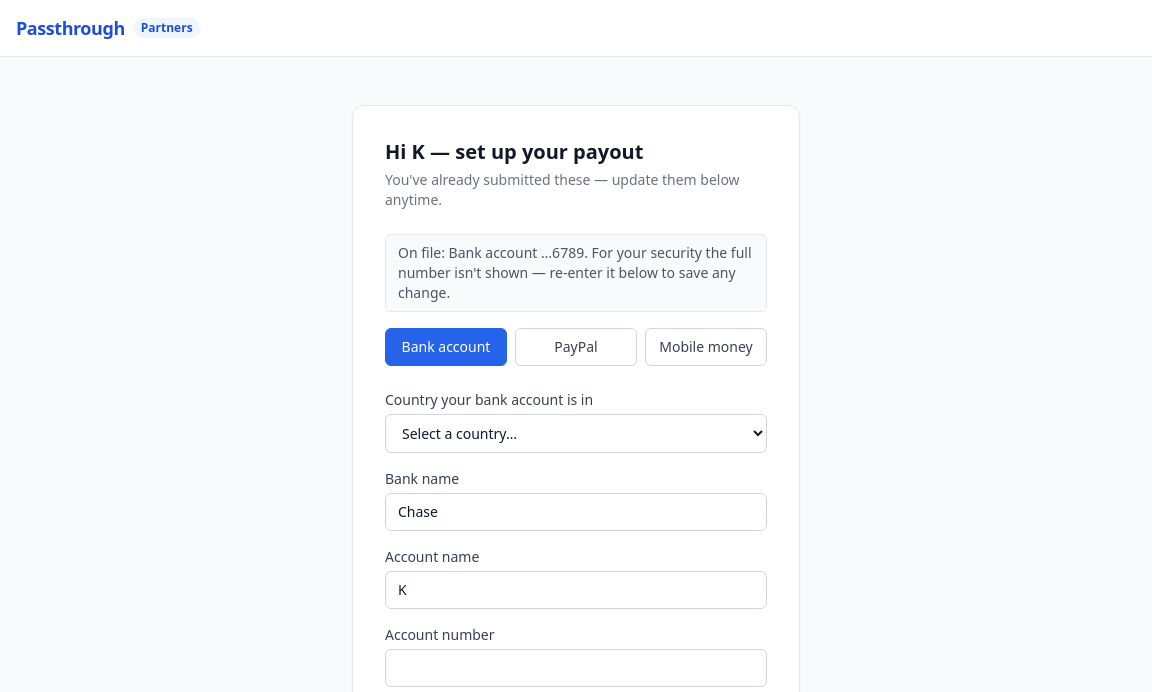
payout page: tax details (gap 7) › refuses a one-letter country before posting
This screenshot has width=1152, height=692.
Step 1. Select "United States" in the dropdown labelled "Country your bank account is in" → (576,434), box [385,414,767,453]
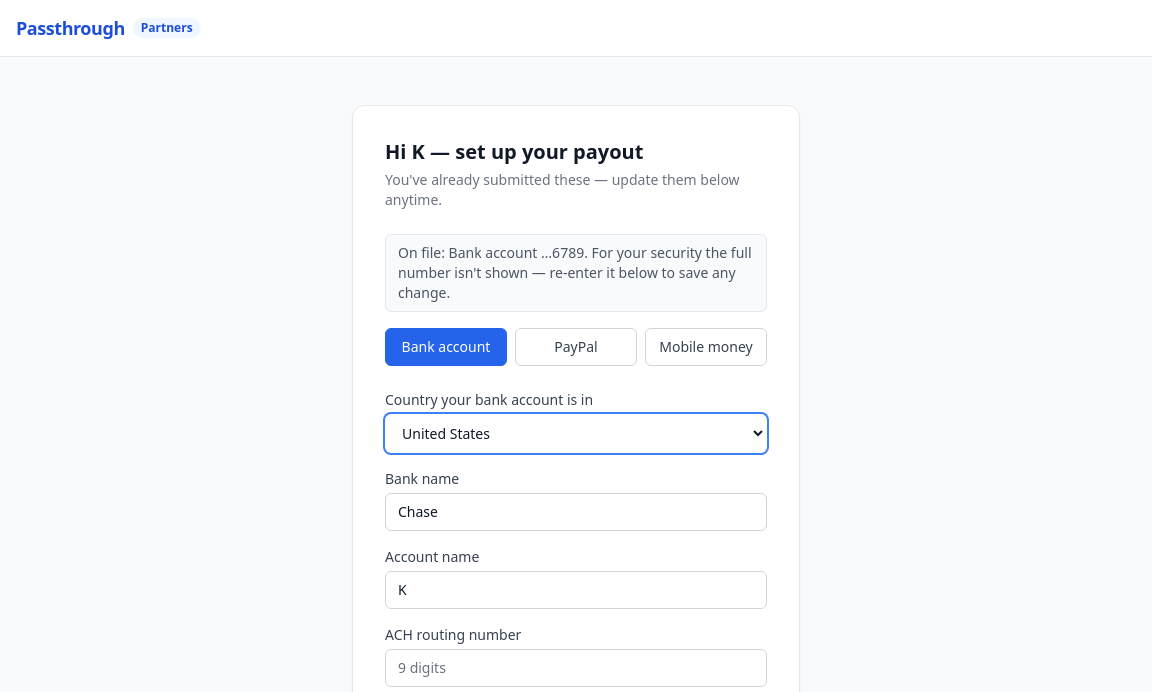
Step 2. Type "021000021" into the field labelled "ACH routing number" → (576,668), box [385,649,767,687]
(page scrolled)
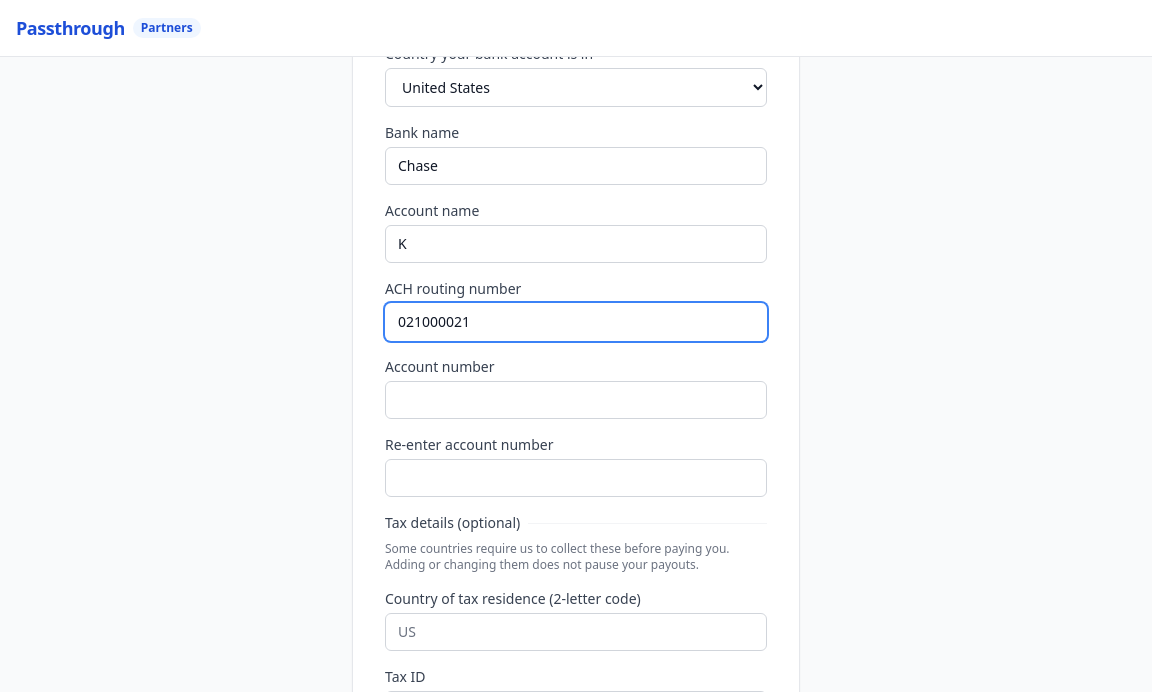
Step 3. Type "0123456789" into the field labelled "Account number" → (576,400), box [385,381,767,419]
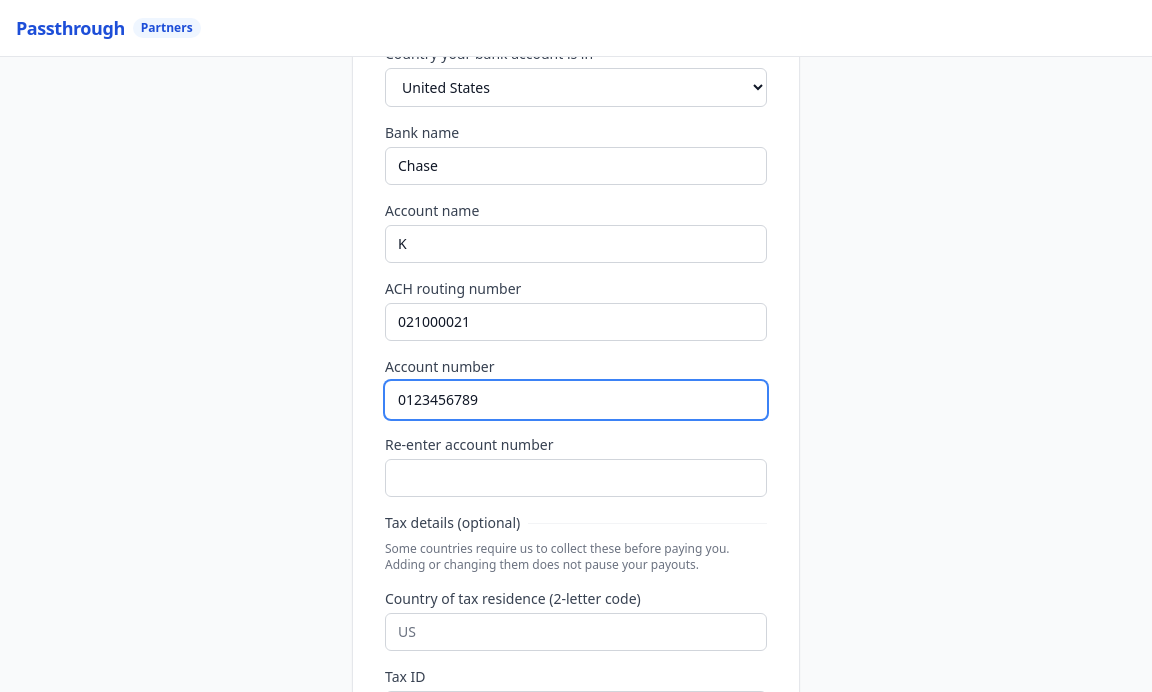
Step 4. Type "0123456789" into the field labelled "Re-enter account number" → (576,478), box [385,459,767,497]
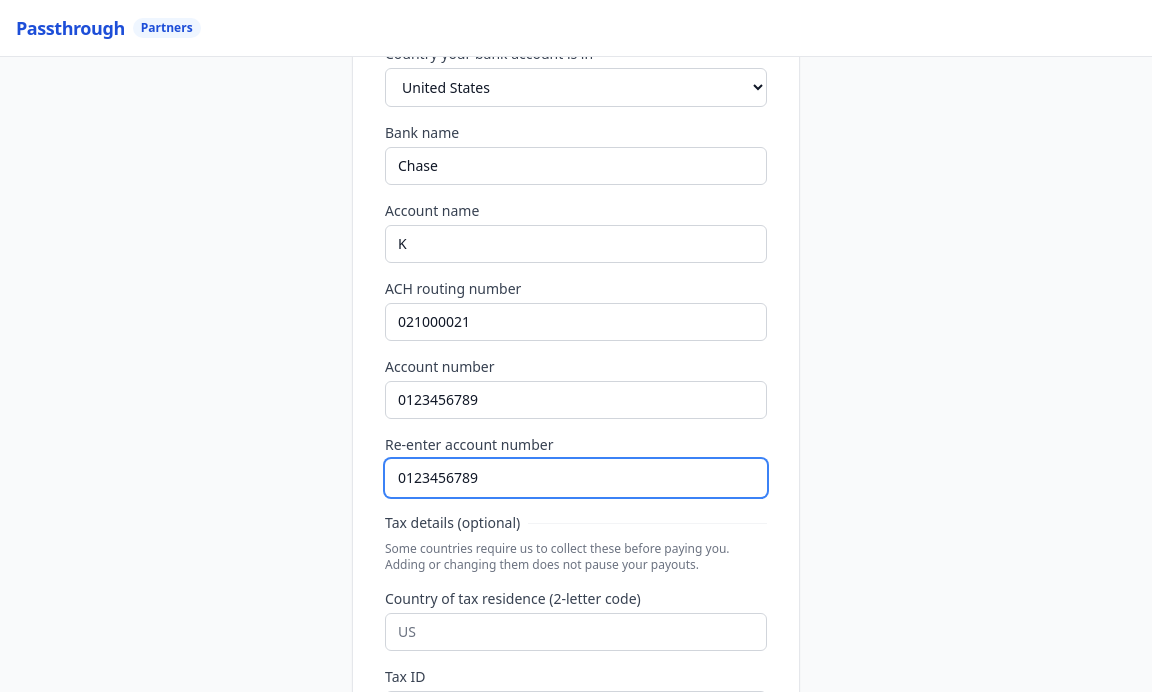
Step 5. Type "K" into the field labelled "Country of tax residence (2-letter code)" → (576,632), box [385,613,767,651]
(page scrolled)
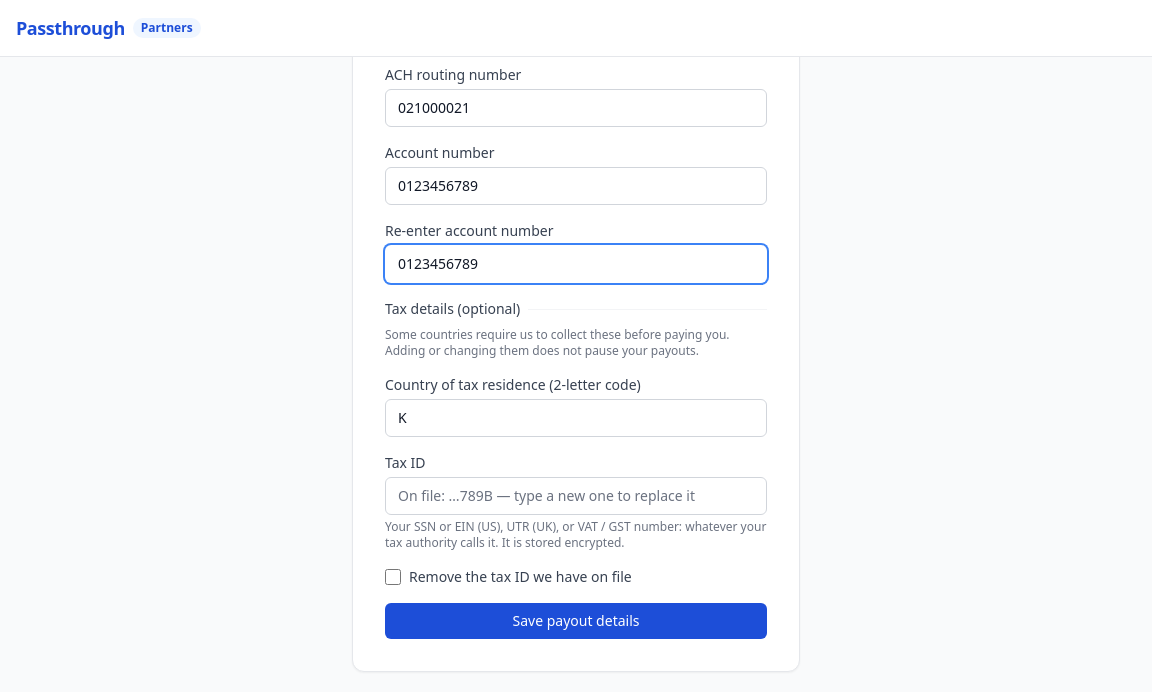
Step 6. Click the button "Save payout details" → (576,621), box [385,603,767,639]
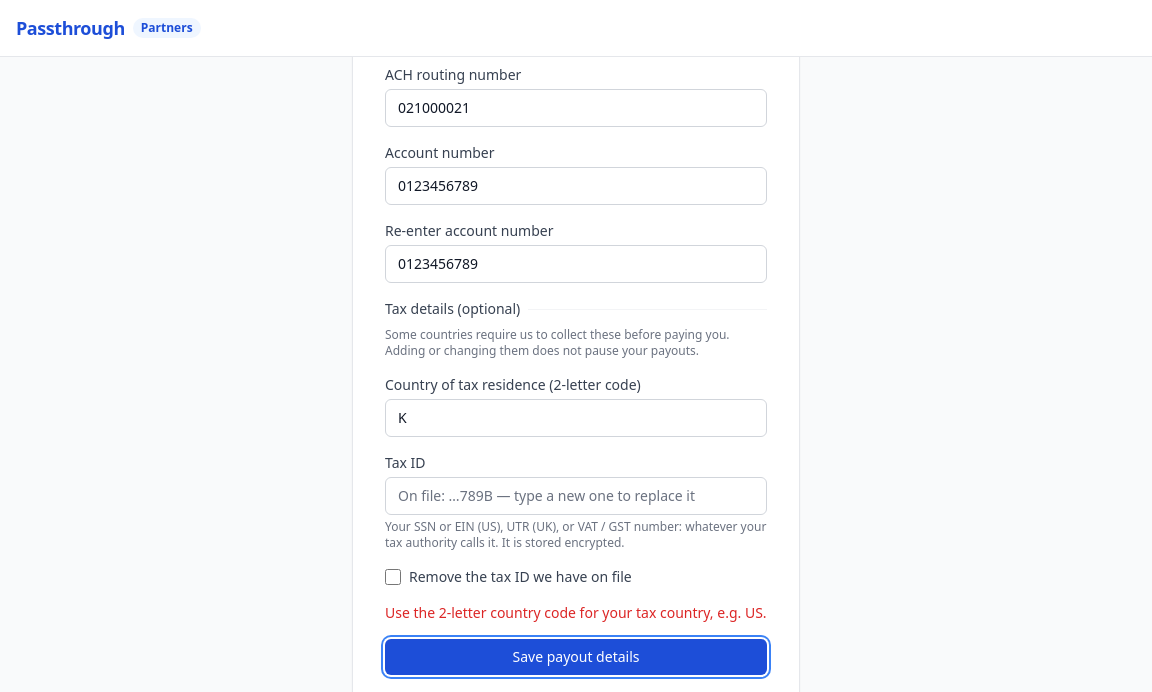
Now the text "Use the 2-letter country code for your tax country, e.g. US." is shown, box [385,603,767,623]
